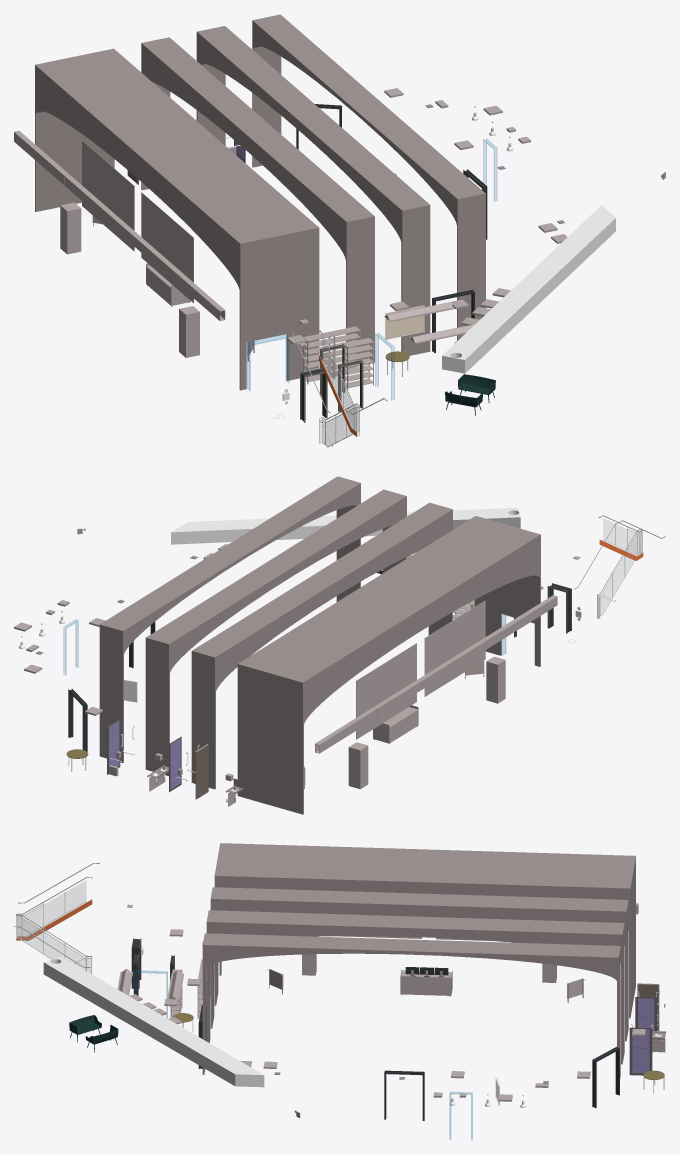
3 views of the same model, one above another, from view 1: azimuth 30°, elevation 25°; view 2: azimuth 150°, elevation 25°; view 3: azimuth 270°, elevation 25° (orthographic). The views are drawn at different scales.
Parts seen in each view (by area): view 1: 8, 7, 0, 1, 4, 12, 3, 13, 6; view 2: 8, 7, 0, 4, 1, 9, 11, 12; view 3: 8, 0, 7, 4, 1, 9, 3, 10.
Part boxes in pixels (x1,y1,x2,y2): 8: (35,14,564,390); 7: (14,88,665,420); 0: (225,106,615,447); 1: (296,104,487,421); 4: (320,336,359,446); 12: (247,138,496,400); 3: (445,374,495,415); 13: (300,344,363,422); 6: (386,305,424,339); 8: (35,476,540,814); 7: (14,515,665,806); 0: (19,507,643,802); 4: (597,518,642,617); 1: (68,570,570,751); 9: (108,721,180,789); 11: (195,745,208,799); 12: (63,614,534,674); 8: (202,843,665,1083); 0: (16,892,665,1107); 7: (14,863,665,1117); 4: (17,880,90,973); 1: (132,939,619,1120); 9: (632,998,654,1073); 3: (69,1015,118,1052); 10: (629,997,656,1075).
Size of the model in its own units: 23.75 by 6.8 by 30.58.
